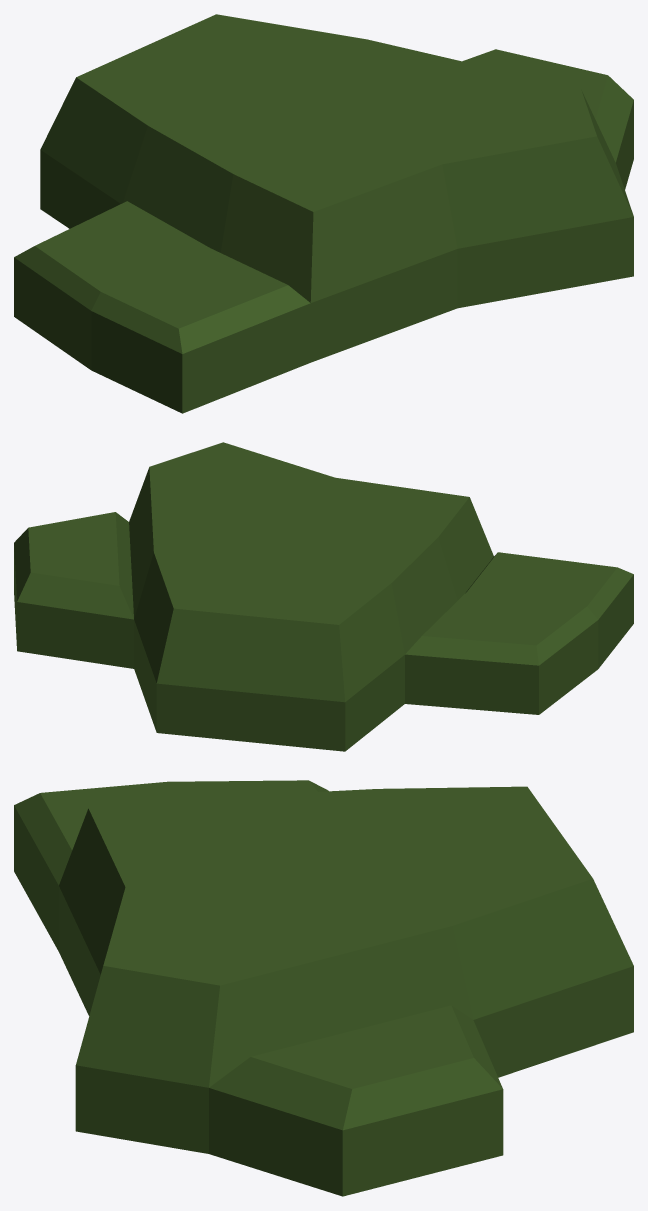
File: lp_Rock_Type4_03_mesh_001_Circle_014.obj
3 views of the same model, one above another, from view 1: azimuth 30°, elevation 25°; view 2: azimuth 150°, elevation 25°; view 3: azimuth 270°, elevation 25° (orthographic). The views are drawn at different scales.
Parts seen in each view (by area): view 1: lp_Rock_Type4_03_mesh_001_Circle_014; view 2: lp_Rock_Type4_03_mesh_001_Circle_014; view 3: lp_Rock_Type4_03_mesh_001_Circle_014.
Boxes of the visible parts, x1=… form: lp_Rock_Type4_03_mesh_001_Circle_014: x1=14, y1=14, x2=633, y2=413; lp_Rock_Type4_03_mesh_001_Circle_014: x1=14, y1=442, x2=633, y2=751; lp_Rock_Type4_03_mesh_001_Circle_014: x1=14, y1=780, x2=633, y2=1196.
Size of the model in its own units: 4.89 by 1.02 by 3.77.
